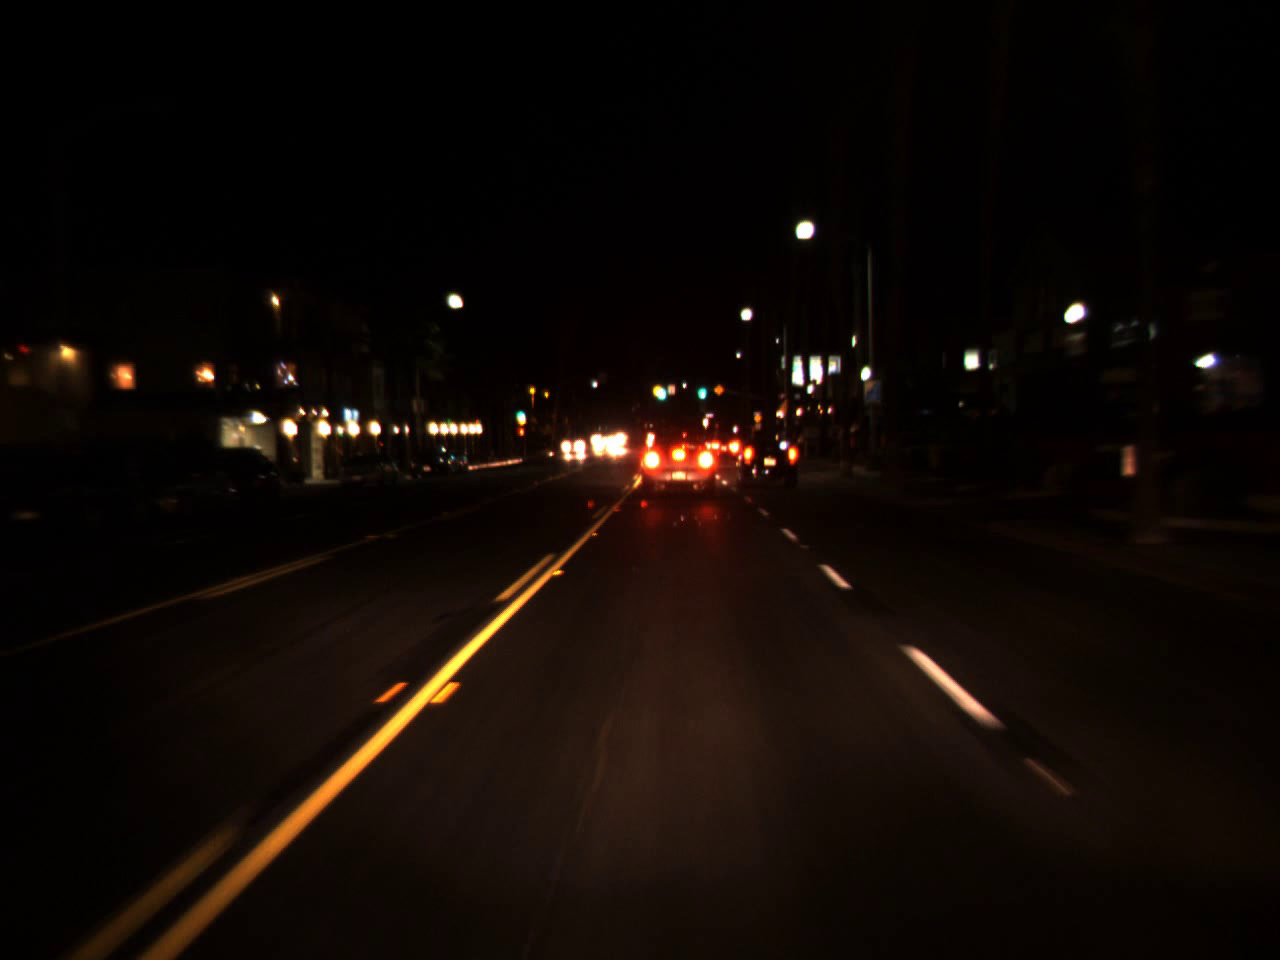go: (694, 374, 708, 404), (654, 375, 666, 402), (513, 403, 525, 418)
